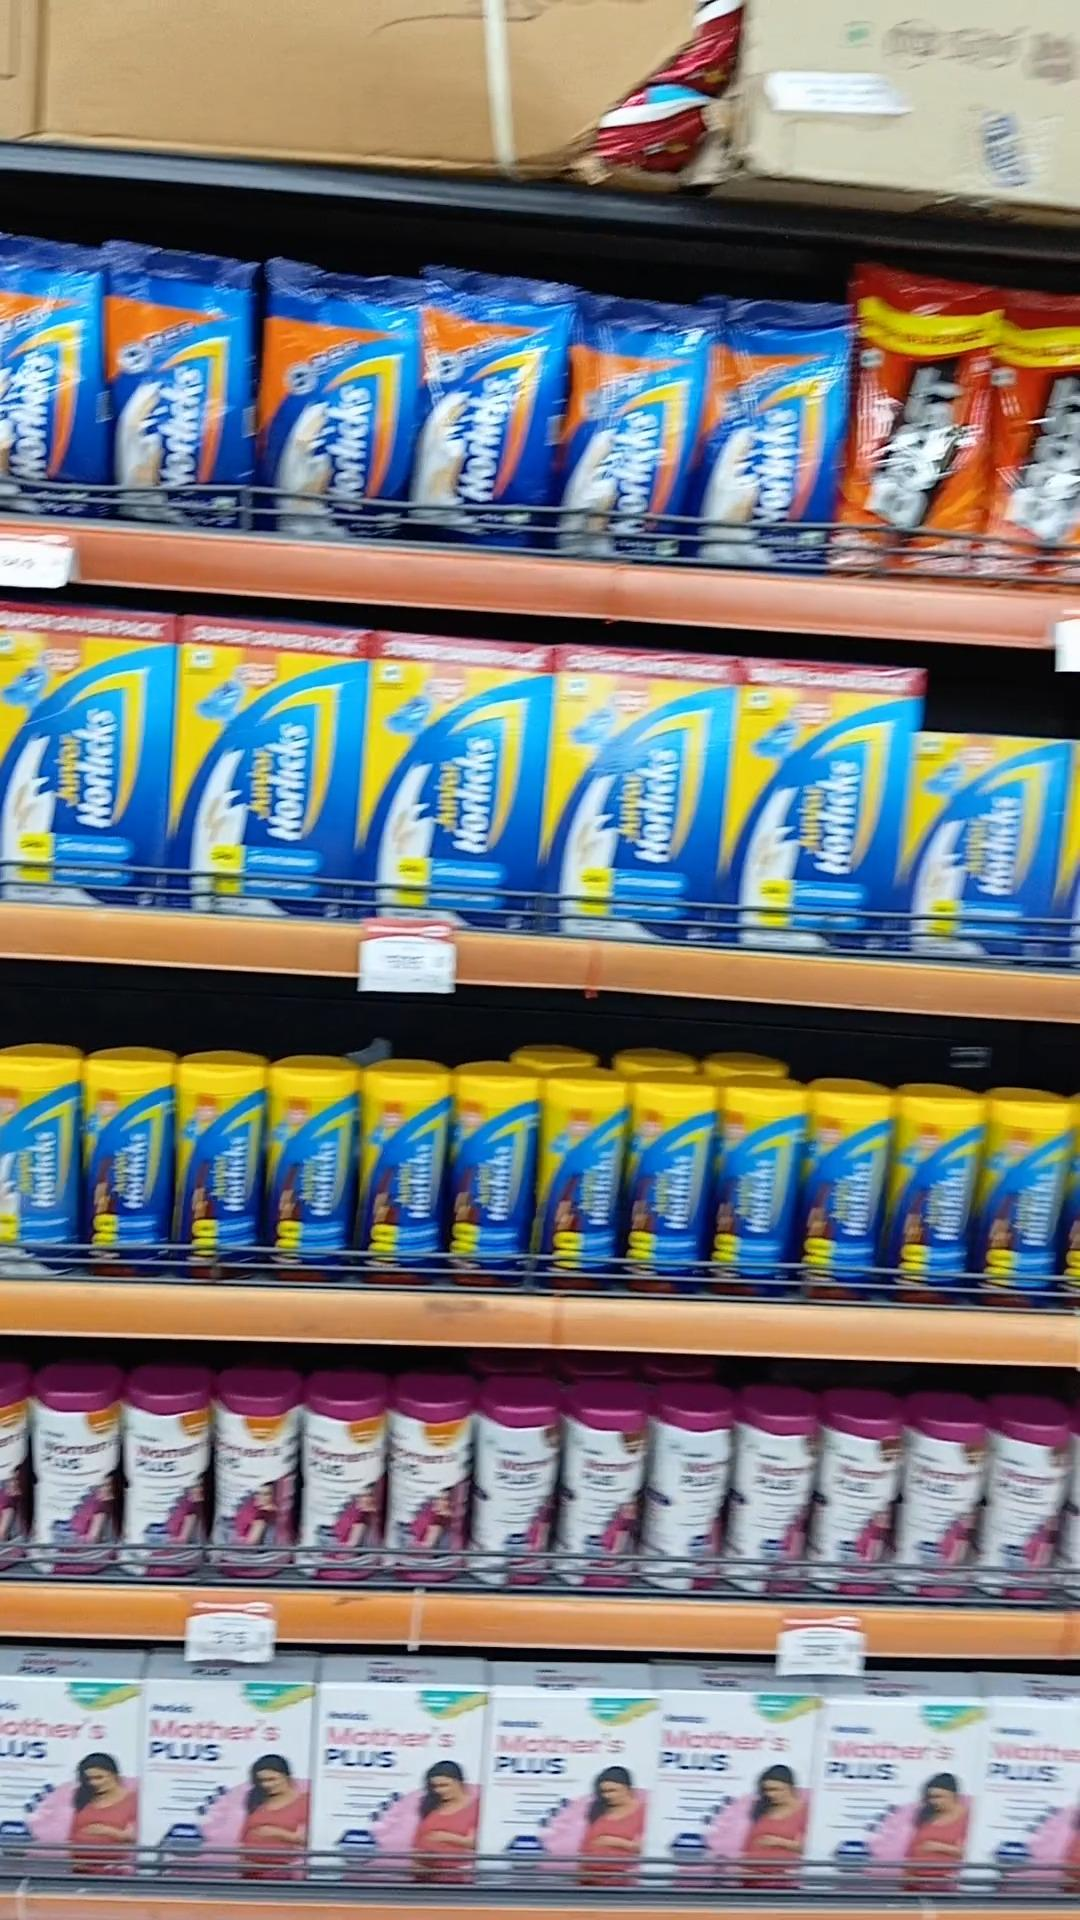HORLICKS_JUNIOR_VANILLA_500_GM_JAR: (83, 1056, 174, 1282), (891, 1088, 978, 1308), (178, 1062, 262, 1286), (988, 1100, 1079, 1307), (451, 1073, 537, 1292), (272, 1067, 356, 1288), (361, 1065, 443, 1291), (0, 1056, 79, 1284), (543, 1075, 624, 1299), (720, 1085, 803, 1300), (630, 1080, 709, 1299), (808, 1089, 889, 1300)
HORLICK_CLASSIC_MALT_750_G_POUCH: (256, 258, 407, 541), (418, 262, 560, 547), (708, 302, 848, 566), (108, 248, 248, 512), (572, 298, 698, 568), (0, 235, 107, 526)
